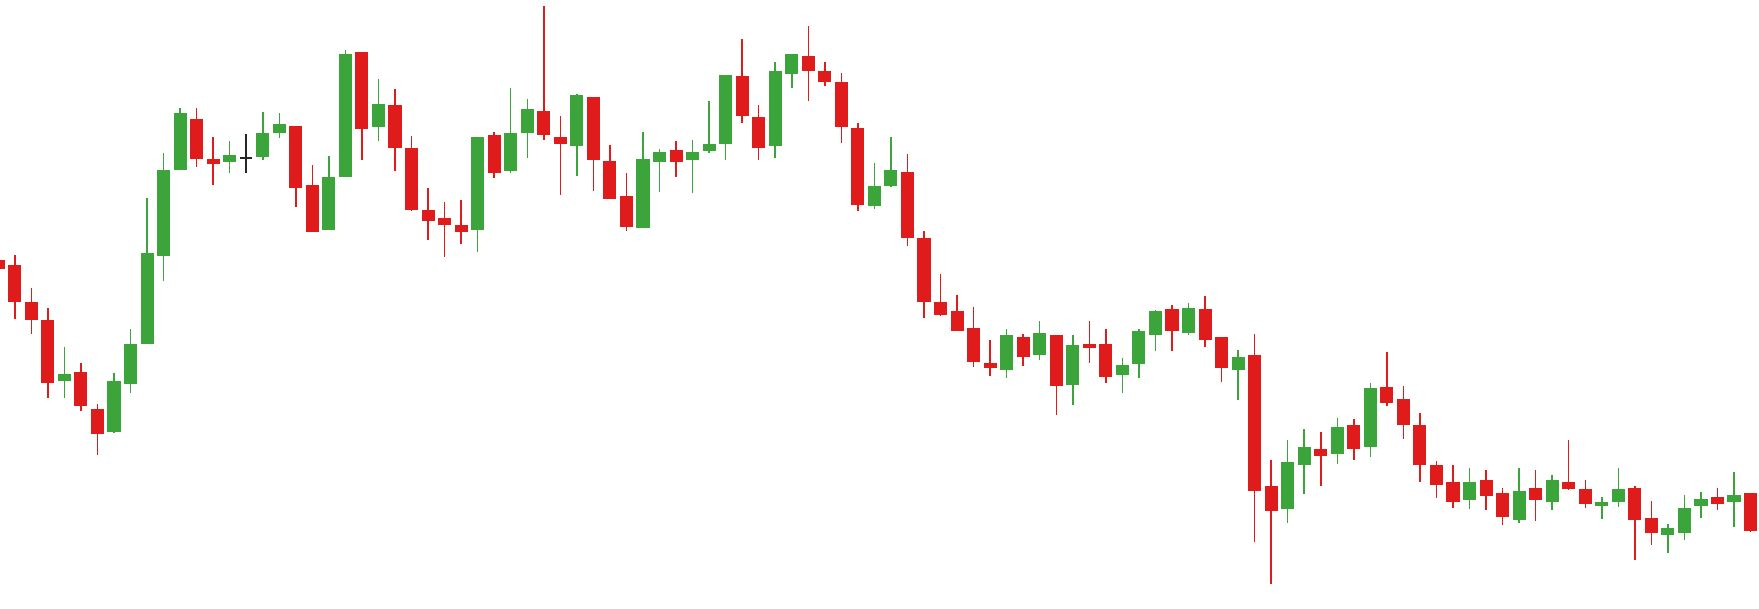sell: (173, 45, 372, 193)
